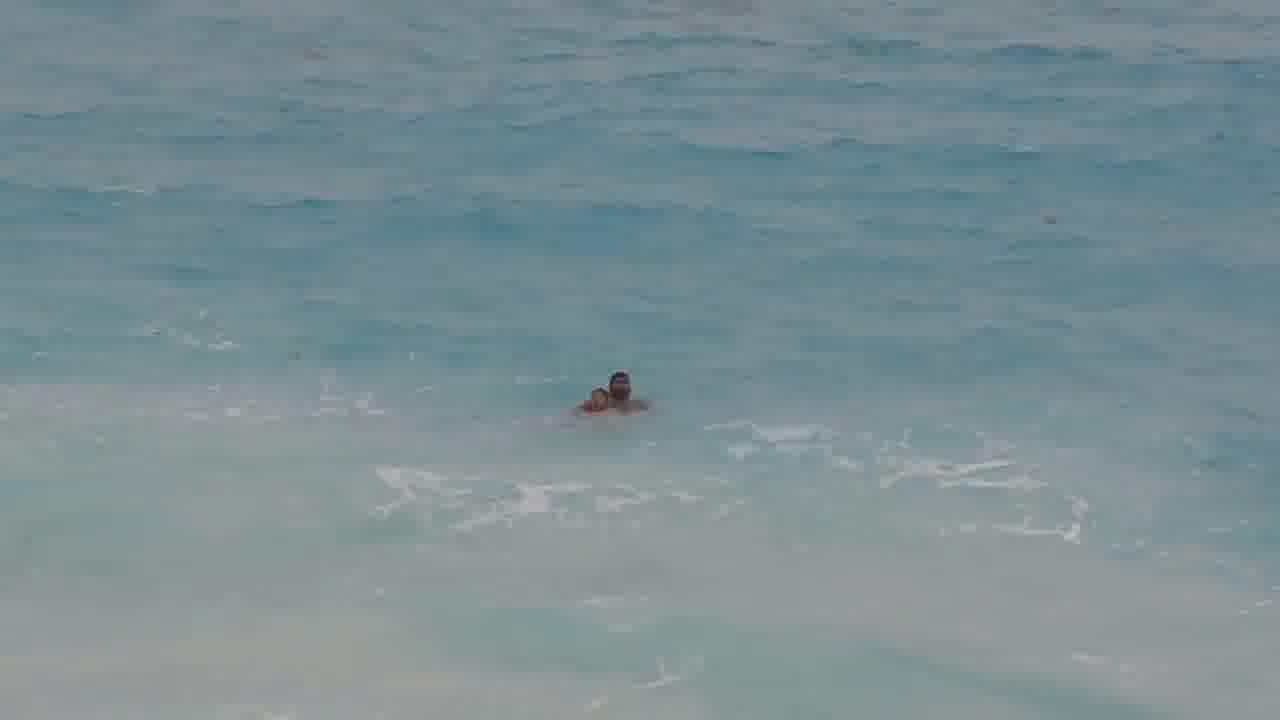human: (608, 370, 633, 403), (582, 387, 605, 417)
